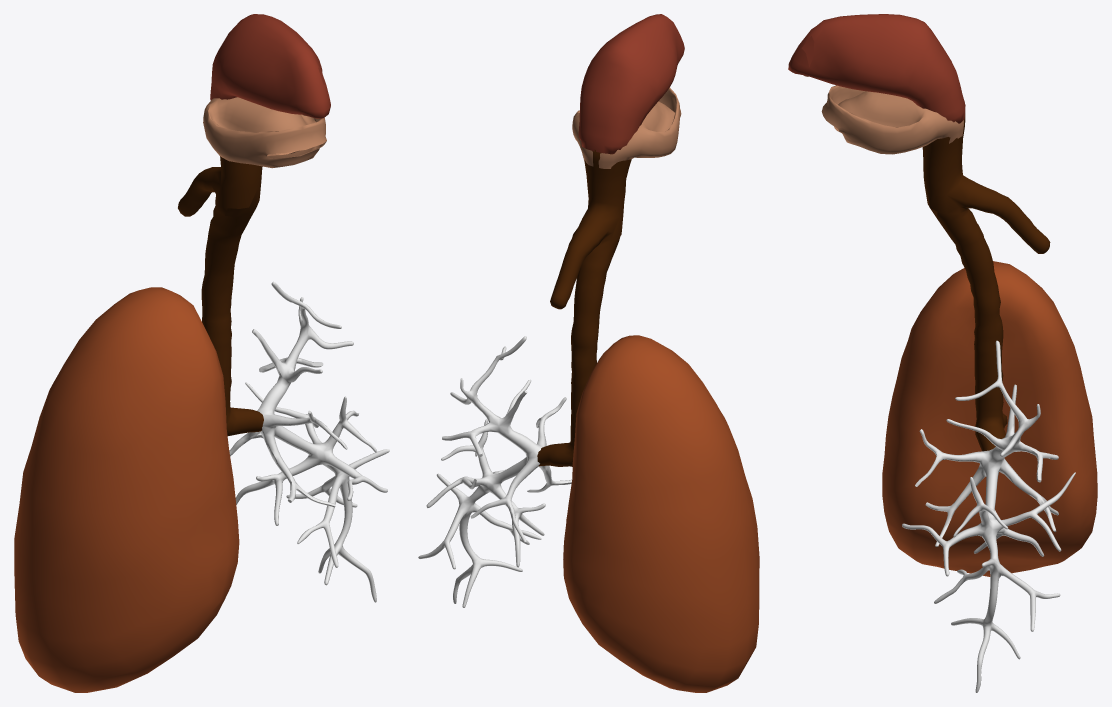
The model's file is Respiratory Model.fbx.
3 renders of one model, left to right at view 1: azimuth 30°, elevation 25°; view 2: azimuth 150°, elevation 25°; view 3: azimuth 270°, elevation 25°, orthographic. The views are drawn at different scales.
Parts seen in each view (by area): view 1: Paru_L, Bronkiouls_L, RonggaHidung_L, Larynx_L, RonggaMulut_L; view 2: Paru_L, Larynx_L, RonggaHidung_L, Bronkiouls_L, RonggaMulut_L; view 3: Paru_L, Larynx_L, RonggaHidung_L, Bronkiouls_L, RonggaMulut_L.
Part boxes in pixels (bbox=[...]): Paru_L: bbox=[14, 287, 239, 692]; Bronkiouls_L: bbox=[229, 281, 389, 602]; RonggaHidung_L: bbox=[210, 14, 330, 118]; Larynx_L: bbox=[178, 156, 263, 435]; RonggaMulut_L: bbox=[203, 97, 326, 168]; Paru_L: bbox=[563, 335, 759, 692]; Larynx_L: bbox=[537, 149, 631, 466]; RonggaHidung_L: bbox=[578, 14, 684, 154]; Bronkiouls_L: bbox=[418, 336, 571, 607]; RonggaMulut_L: bbox=[572, 87, 681, 168]; Paru_L: bbox=[882, 261, 1097, 576]; Larynx_L: bbox=[922, 113, 1050, 451]; RonggaHidung_L: bbox=[788, 14, 965, 123]; Bronkiouls_L: bbox=[902, 340, 1075, 692]; RonggaMulut_L: bbox=[821, 85, 963, 154].
Size of the model in its own units: 2744 by 4908 by 2206.
